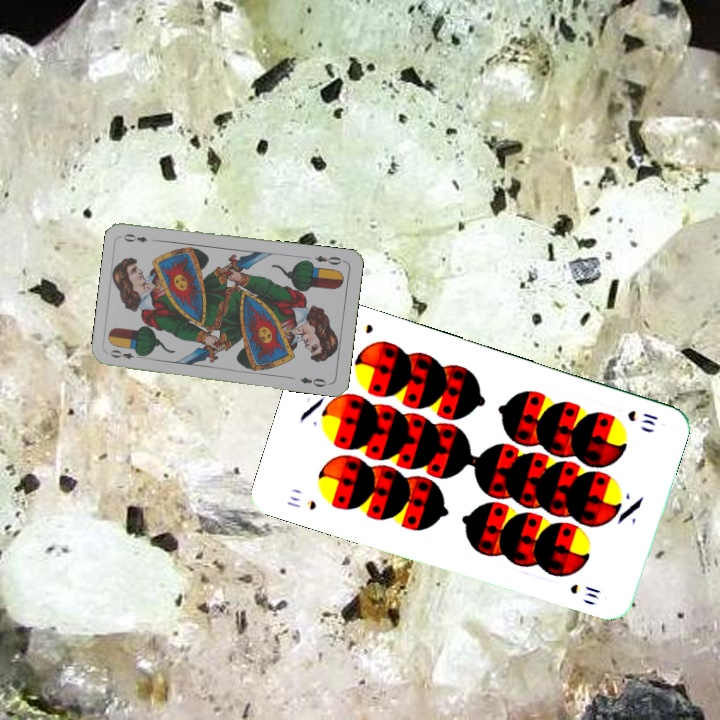EO: (106, 346, 146, 362), (311, 251, 347, 267)
S10: (623, 406, 660, 429), (282, 491, 319, 513)
